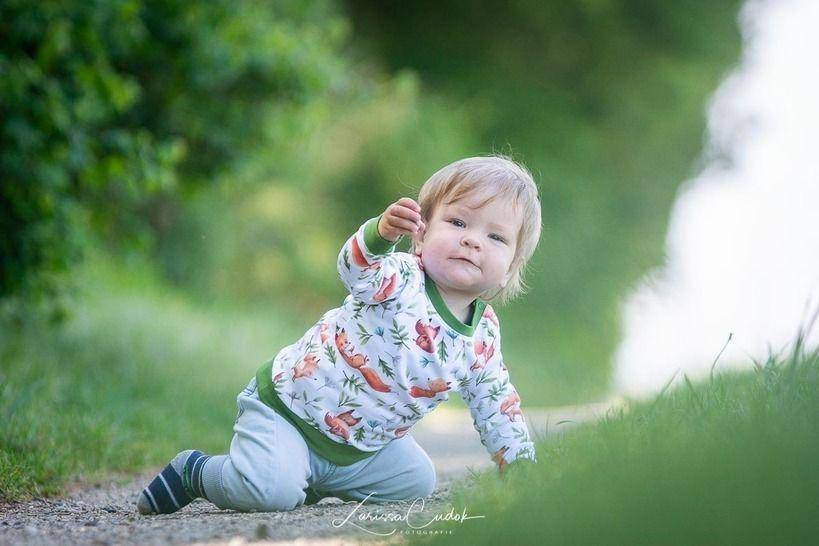child: (101, 122, 590, 515)
